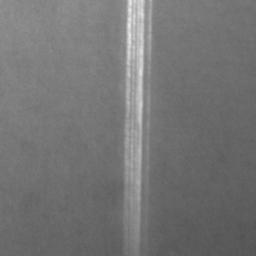Bright scratch: (123, 0, 146, 256)
